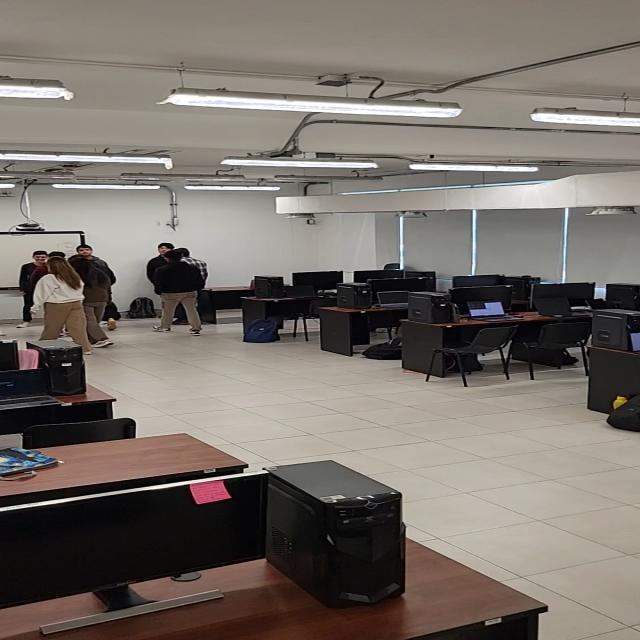Persona: (27, 255, 97, 356), (142, 237, 218, 322), (65, 254, 117, 350), (155, 248, 206, 338), (66, 243, 120, 311), (16, 250, 56, 330)
